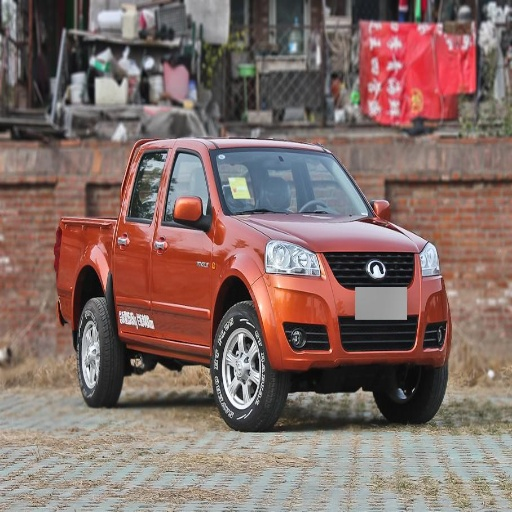front_bumper: (257, 252, 448, 370)
front_right_door: (151, 146, 216, 344)
front_right_light: (264, 239, 326, 280)
hood: (238, 212, 424, 252)
trunk: (52, 219, 110, 316)
